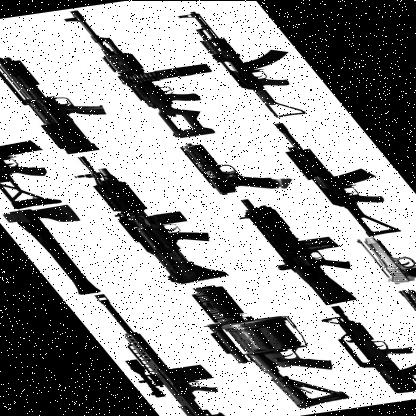rifle: (57, 0, 249, 140), (60, 147, 244, 287), (65, 288, 256, 416), (206, 189, 390, 310), (165, 0, 340, 124), (262, 116, 416, 249), (0, 47, 140, 158), (306, 298, 416, 398), (387, 281, 416, 384)
